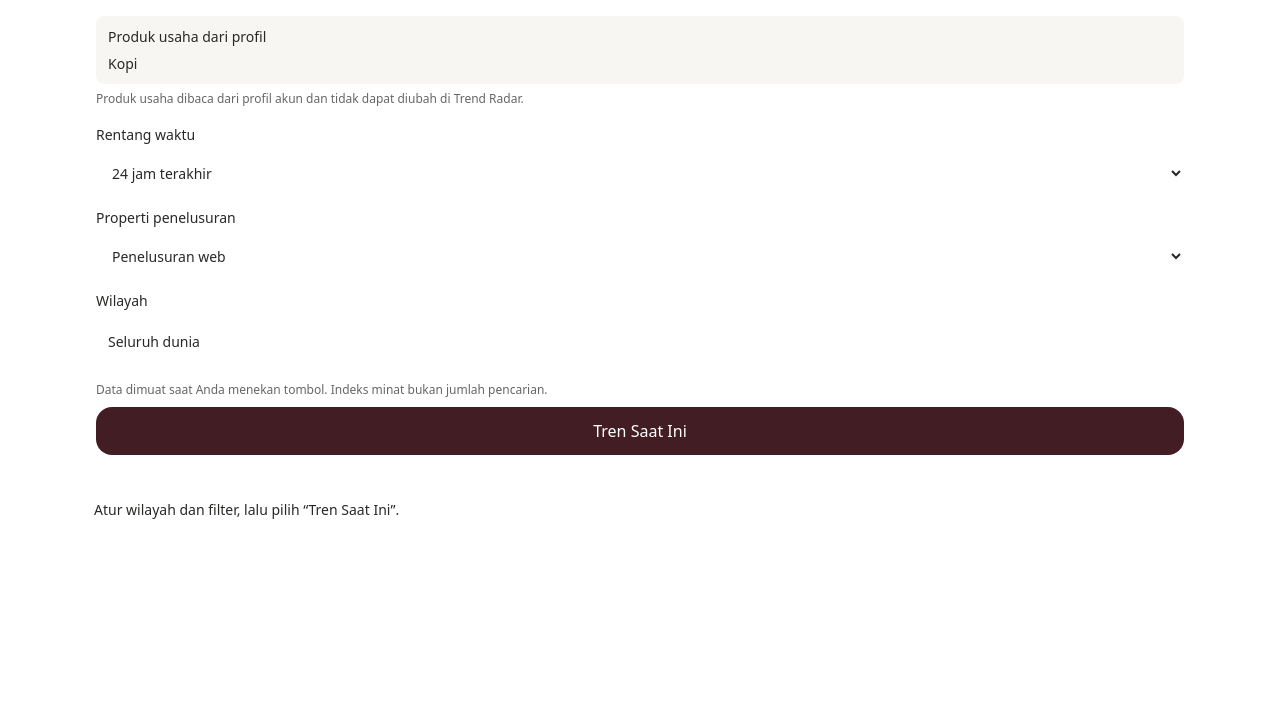
Test: TrendRadarPanel › does not fetch on render, shows the read-only profile query, and renders Top/Rising results
Check: the text named "Produk usaha dari profil" reads "Kopi", box [108, 54, 137, 73]
What coordinates should you click on to do the following:
click the button "Tren Saat Ini"
I would click on:
 (640, 431)
Its box is [96, 407, 1184, 455].
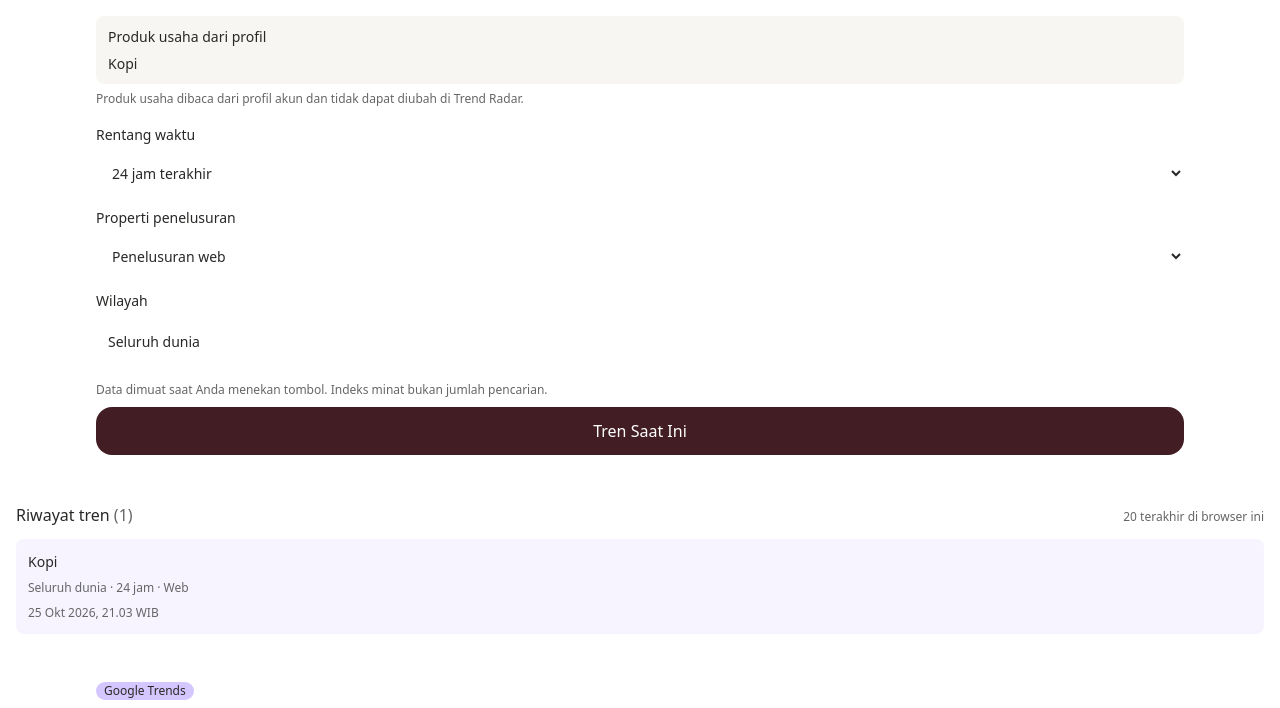
Check: the text "Google Trends" is shown, box [96, 682, 194, 700]
